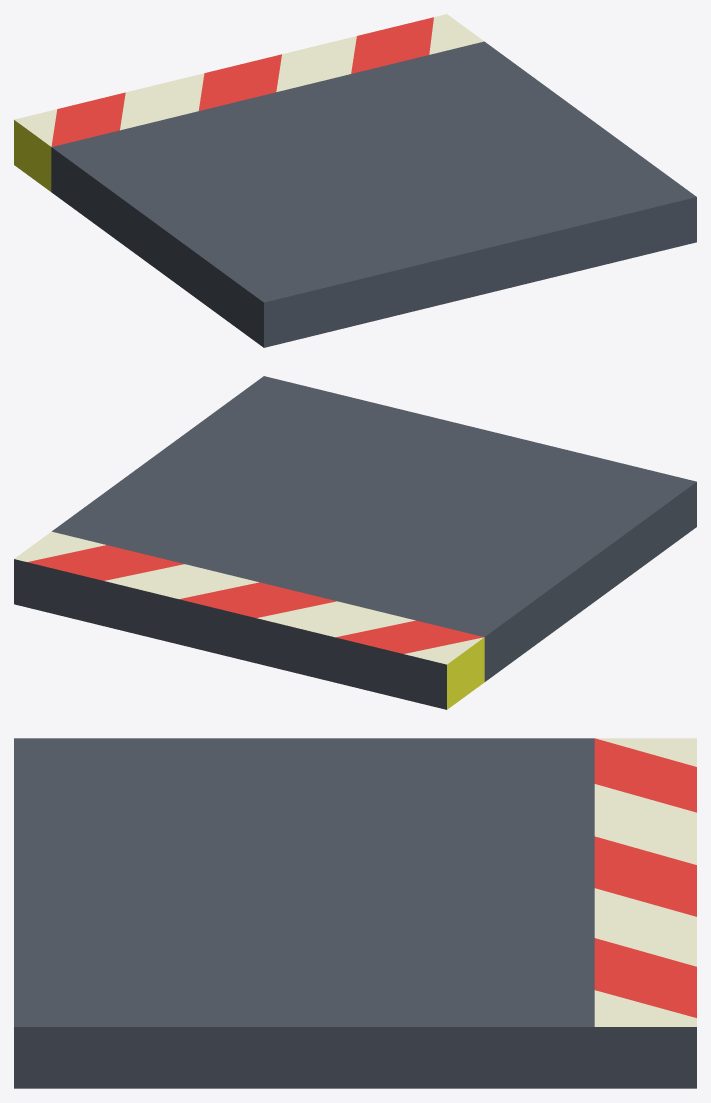
File: Mod_Tile_10_Var_03.fbx
The picture shows the model from 3 angles, top to bottom: view 1: azimuth 30°, elevation 25°; view 2: azimuth 150°, elevation 25°; view 3: azimuth 270°, elevation 25°; orthographic projection. The views are drawn at different scales.
Parts seen in each view (by area): view 1: Mod_Tile_10_Var_03; view 2: Mod_Tile_10_Var_03; view 3: Mod_Tile_10_Var_03.
Boxes of the visible parts, x1,y1,x2,y2 form: Mod_Tile_10_Var_03: (14, 14, 696, 347); Mod_Tile_10_Var_03: (14, 376, 696, 709); Mod_Tile_10_Var_03: (14, 738, 696, 1088).
Bounding box in the file's own units: 100 × 10 × 100.
